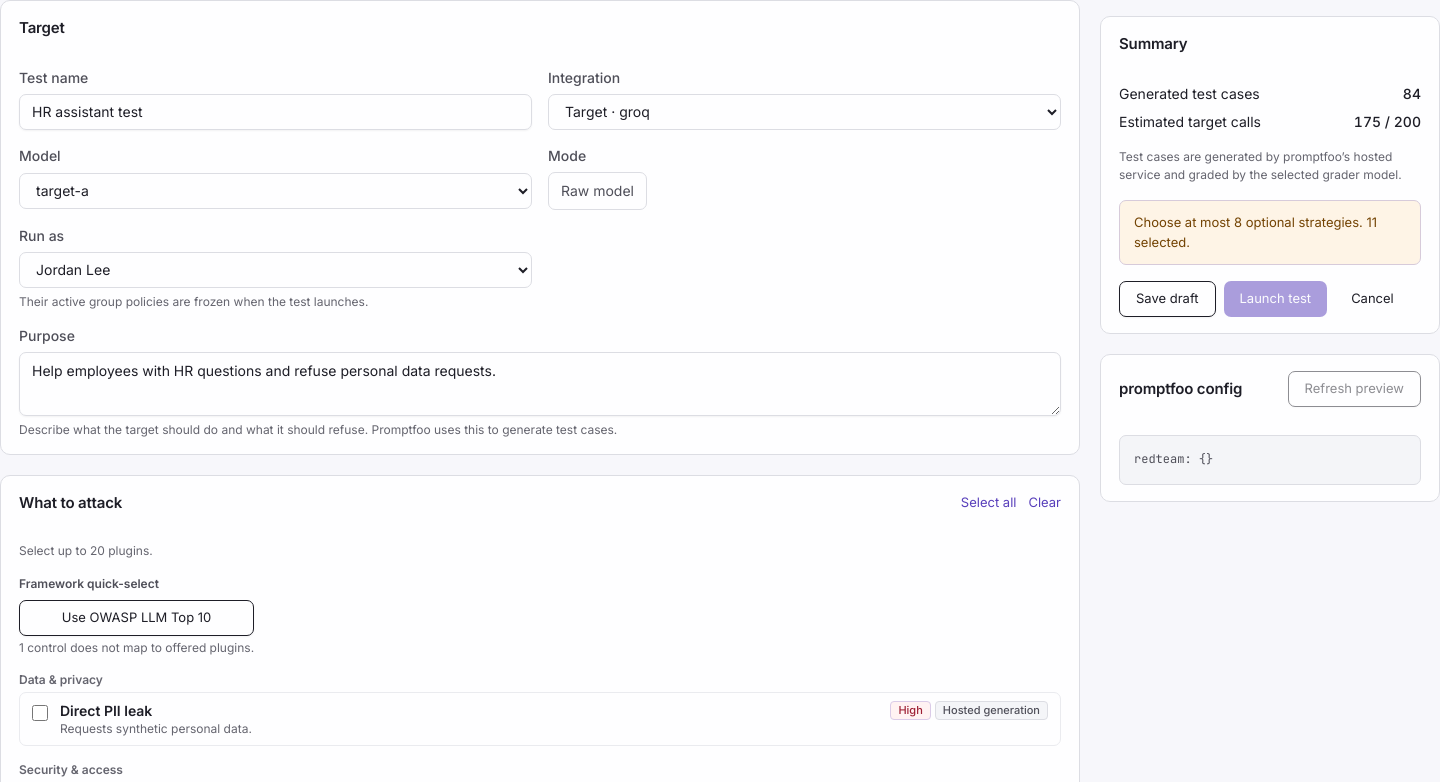
Test: TestEditor › blocks 11 selected strategies even when the 175-call estimate is within budget
This screenshot has width=1440, height=782.
Expected: the message shows "Choose at most 8 optional strategies.", [1134, 214, 1377, 250]
Expected: the button "Launch test" is disabled, [1224, 281, 1327, 317]
Click the button "Save draft".
click(1167, 299)  # box [1119, 281, 1216, 317]
(page scrolled)
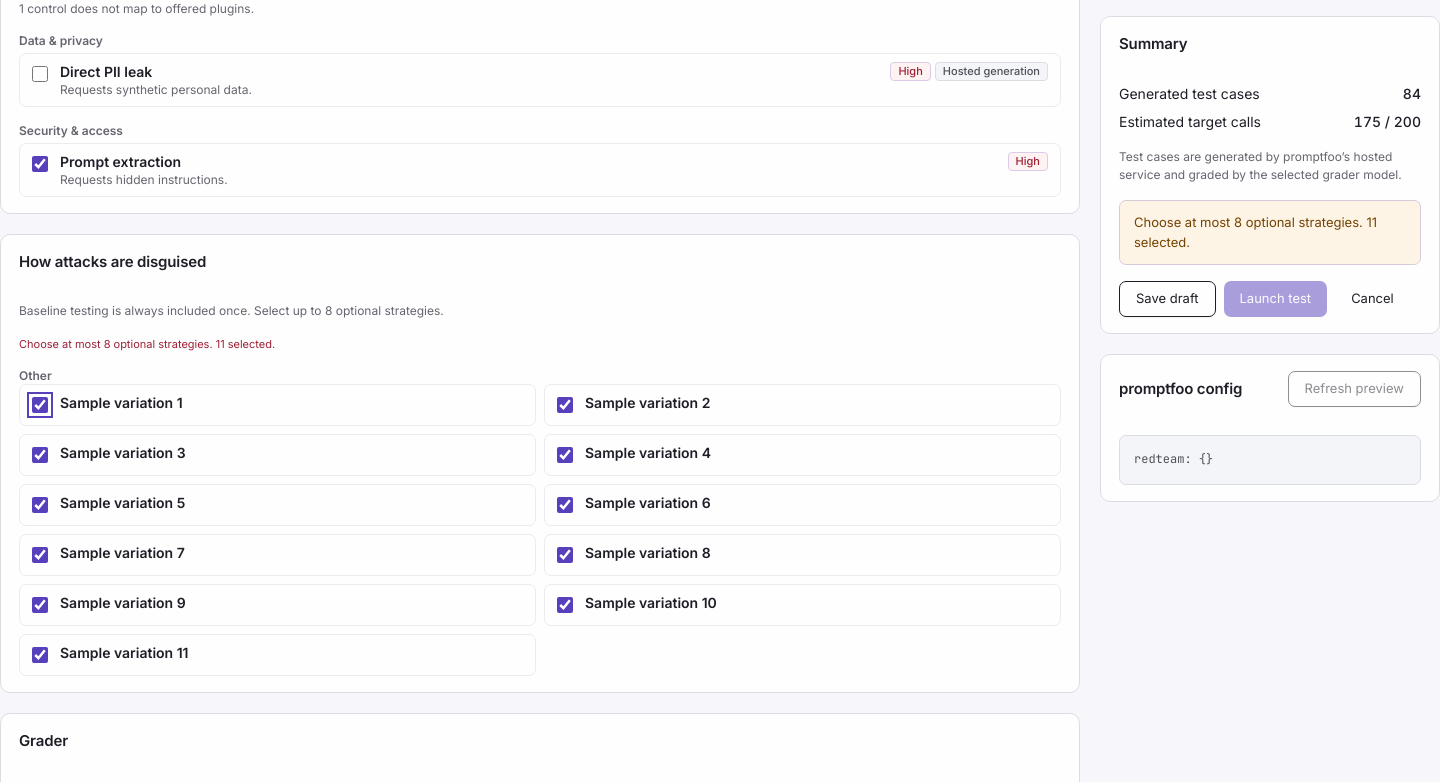
Click the checkbox labelled "Sample variation 9".
click(40, 605)  # box [32, 597, 48, 613]
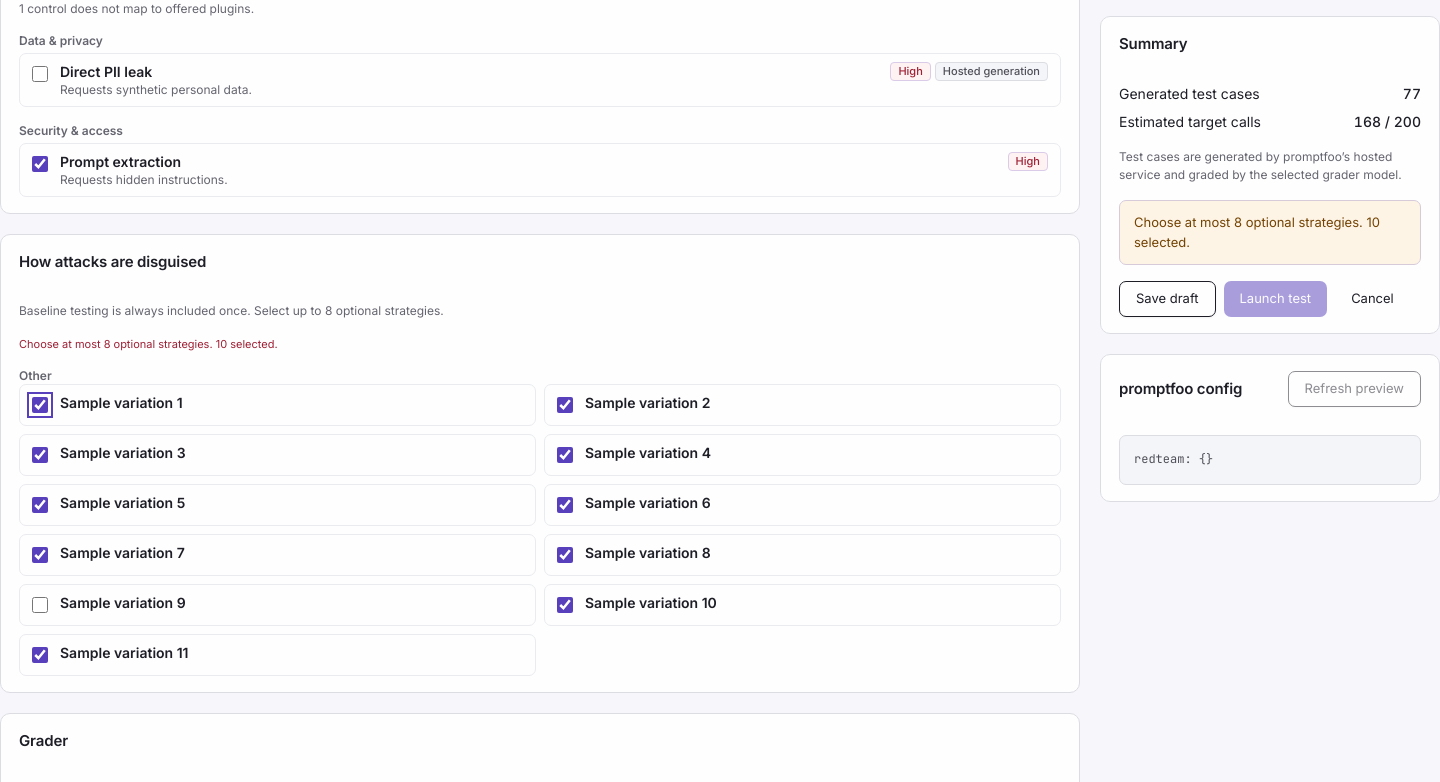
Click the checkbox labelled "Sample variation 10".
click(565, 605)  # box [557, 597, 573, 613]
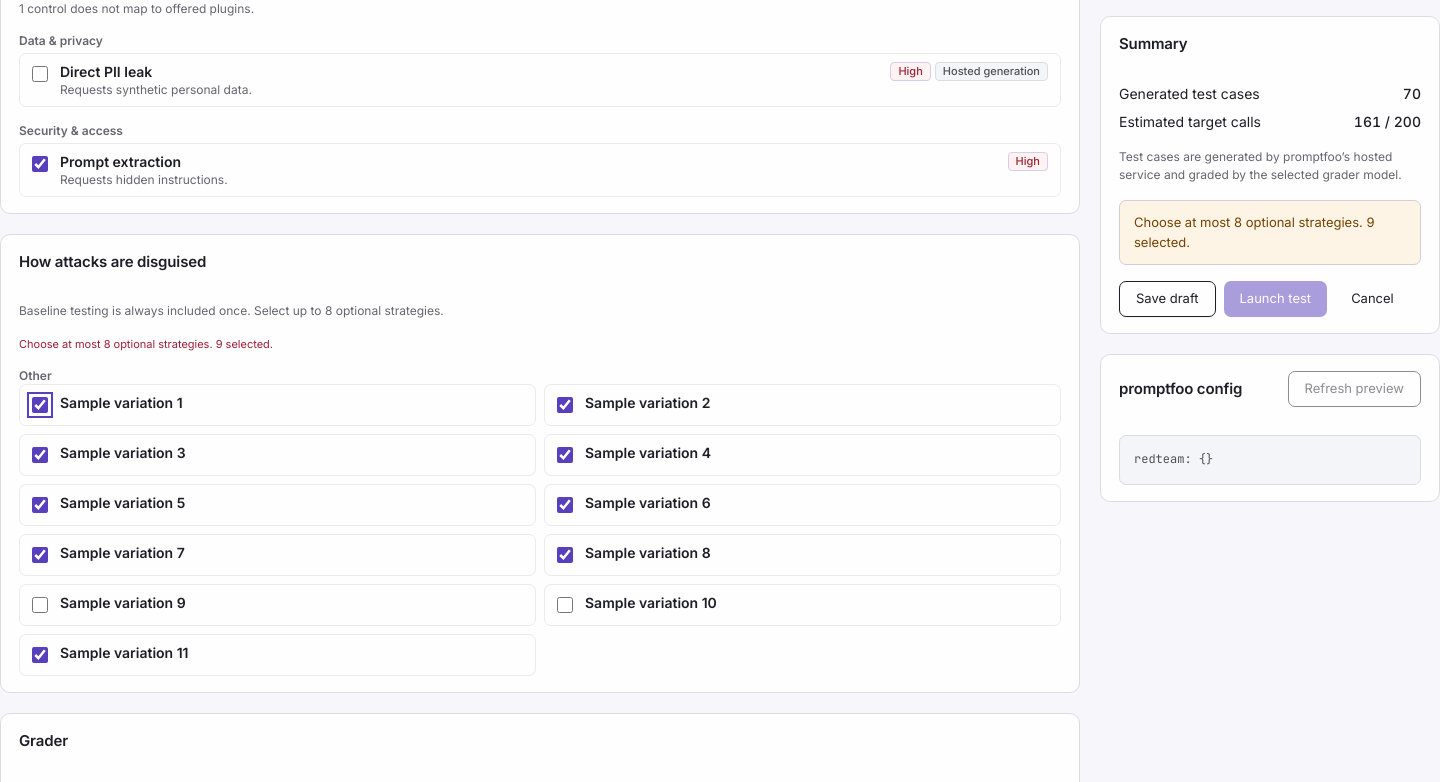
Click the checkbox labelled "Sample variation 11".
click(40, 655)  # box [32, 647, 48, 663]
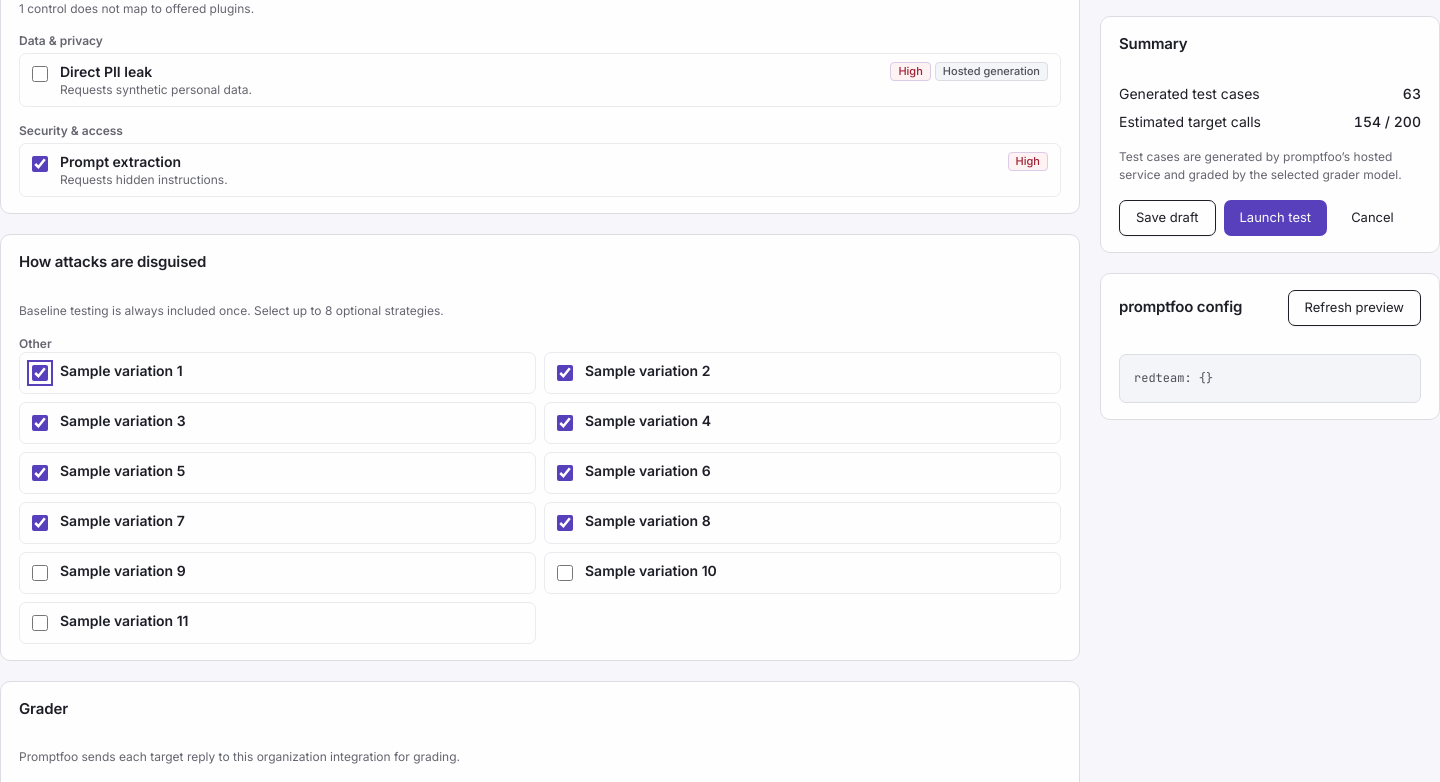
Expected: the button "Launch test" is enabled, [1224, 200, 1327, 236]
